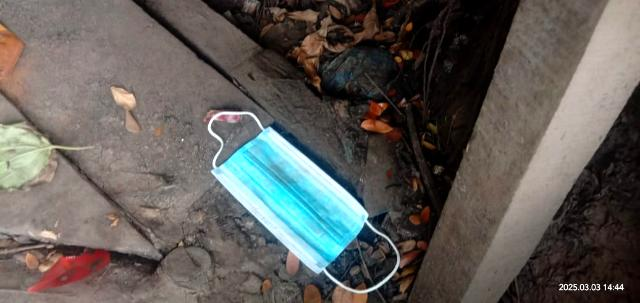mask: (205, 111, 373, 280)
